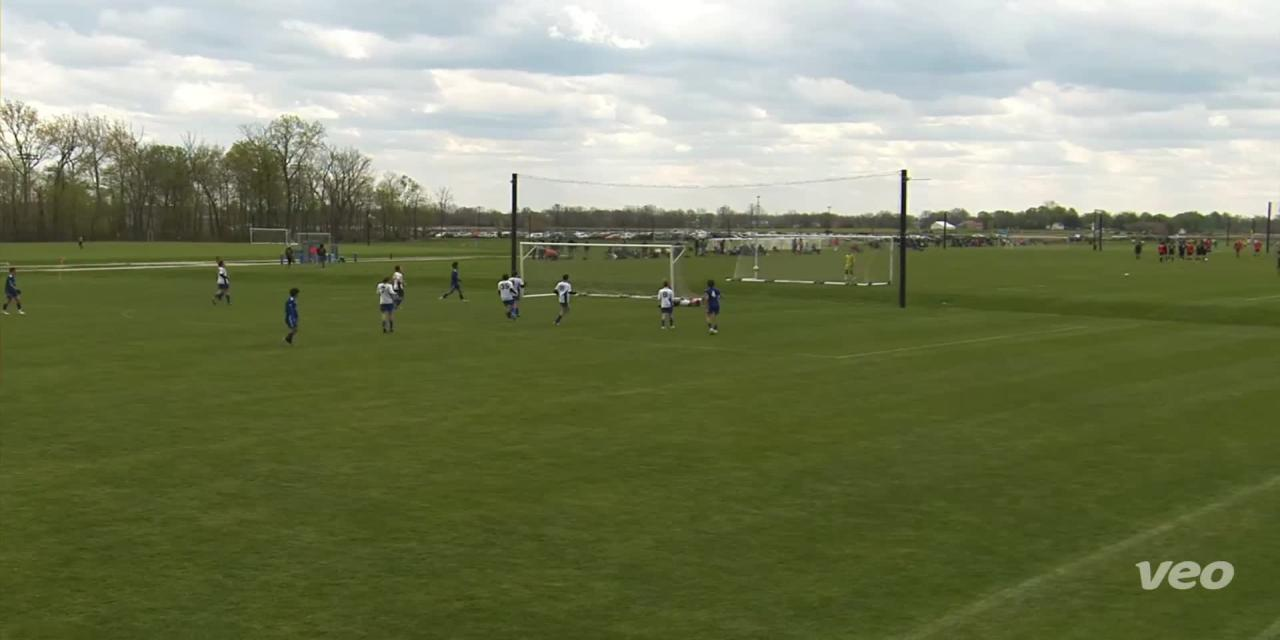goal: (506, 236, 712, 310)
